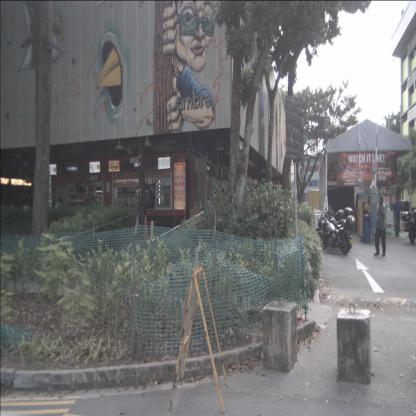human-pedestrian-adult: (374, 197, 386, 256), (393, 197, 402, 237), (54, 197, 62, 234), (122, 198, 129, 228)
vehicle-car: (392, 200, 409, 216)
vehicle-motorcycle: (315, 212, 356, 255), (316, 207, 354, 249), (315, 209, 344, 241), (401, 207, 415, 245)
